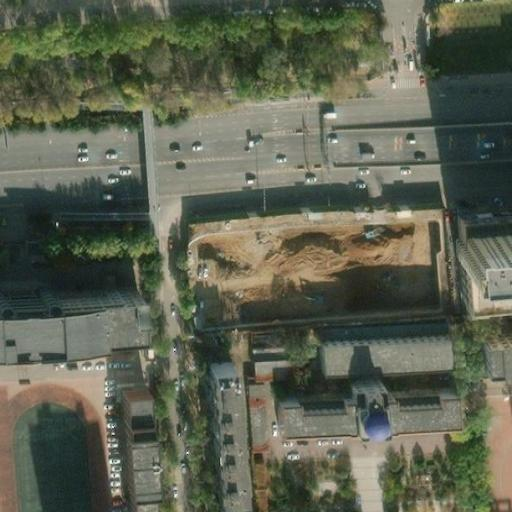building: (0, 286, 147, 351), (275, 370, 454, 418), (200, 350, 240, 512), (314, 312, 444, 350), (116, 374, 147, 512), (446, 226, 512, 265), (465, 325, 512, 371)
